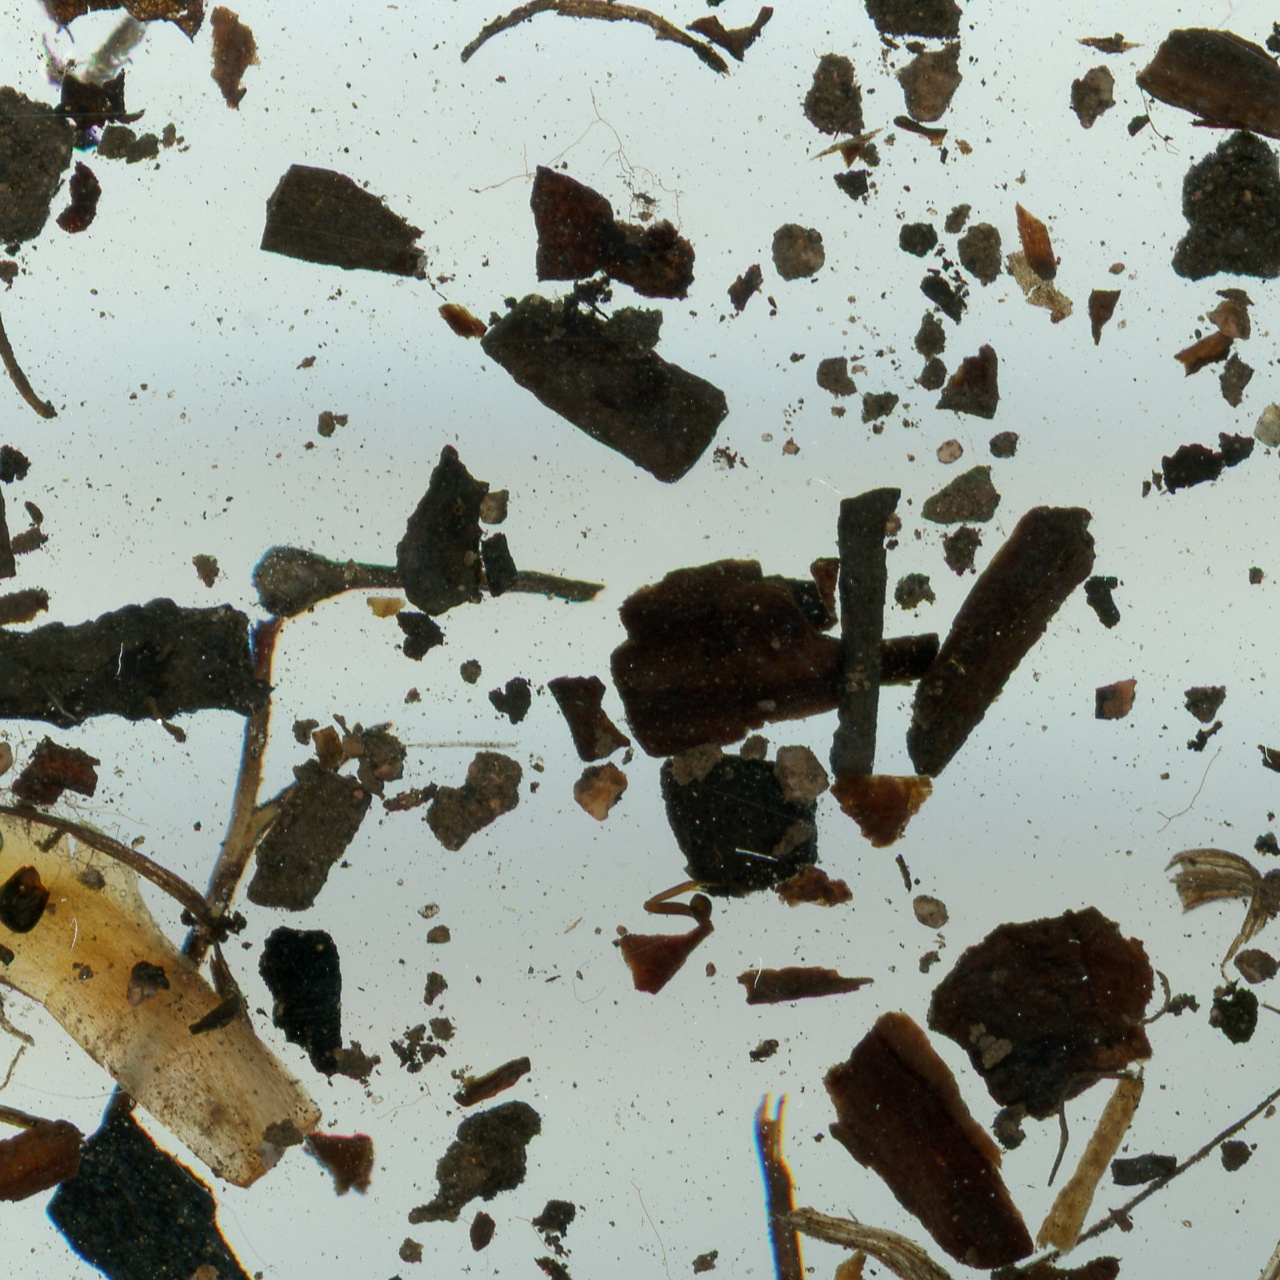arthropod: (73, 4, 170, 97), (0, 0, 86, 62), (18, 26, 84, 95)
